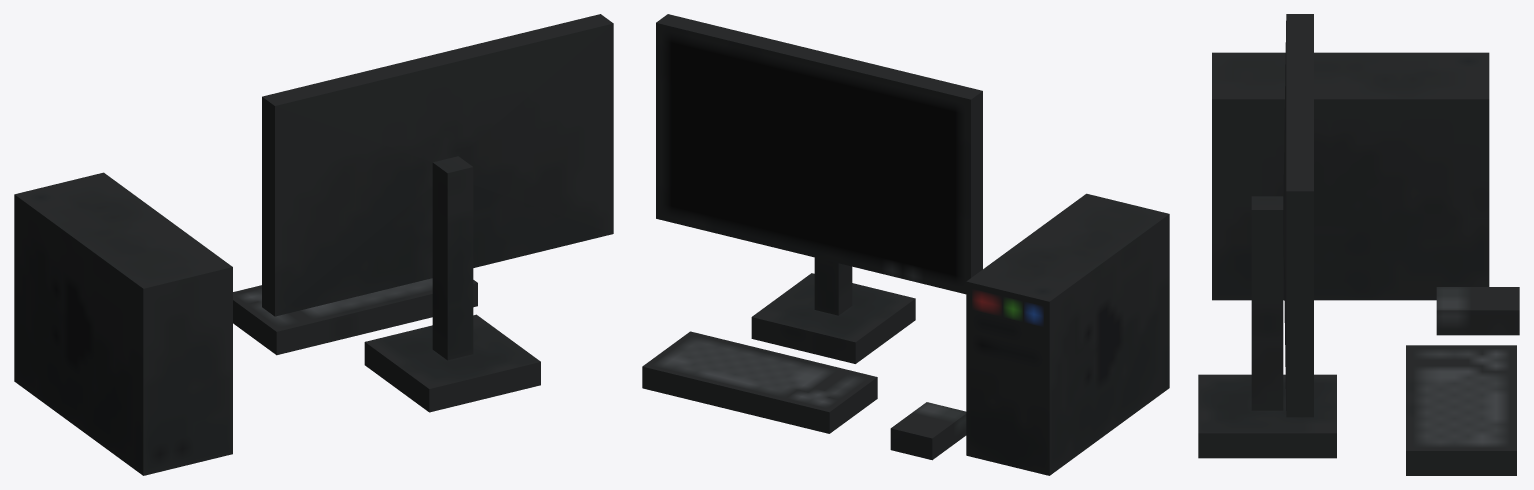
File: ComputerSetup.fbx
3 renders of one model, left to right at view 1: azimuth 30°, elevation 25°; view 2: azimuth 150°, elevation 25°; view 3: azimuth 270°, elevation 25°, orthographic. The views are drawn at different scales.
Visible parts, largest first — view 1: Monitor, PC, Keyboard; view 2: Monitor, PC, Keyboard, Mouse; view 3: PC, Monitor, Keyboard, Mouse.
Part boxes in pixels (box(x1,y1,x2,y2)): Monitor: box(262, 14, 613, 412); PC: box(14, 172, 232, 475); Keyboard: box(233, 278, 477, 355); Monitor: box(656, 14, 982, 363); PC: box(966, 193, 1169, 475); Keyboard: box(642, 331, 877, 433); Mouse: box(890, 402, 966, 460); PC: box(1212, 52, 1489, 300); Monitor: box(1198, 14, 1336, 458); Keyboard: box(1406, 345, 1516, 475); Mouse: box(1436, 287, 1519, 335).
Bounding box in the file's own units: 141 × 81.25 × 72.5.
1 material, 1 textured.
